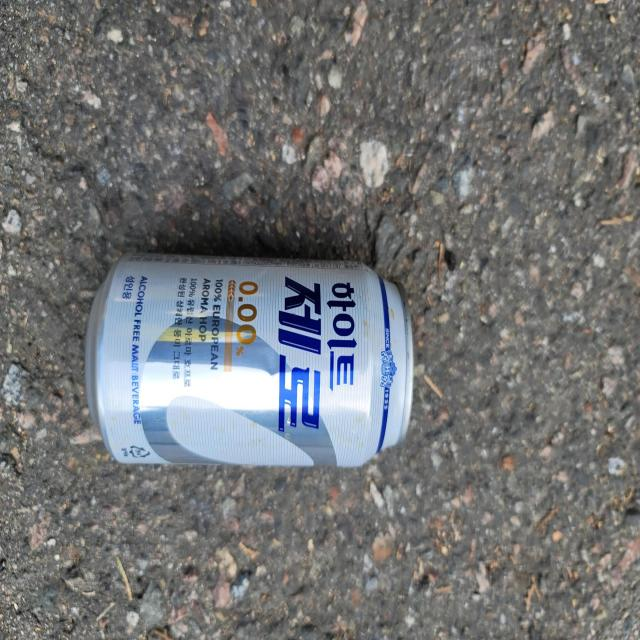can: (85, 254, 413, 468)
